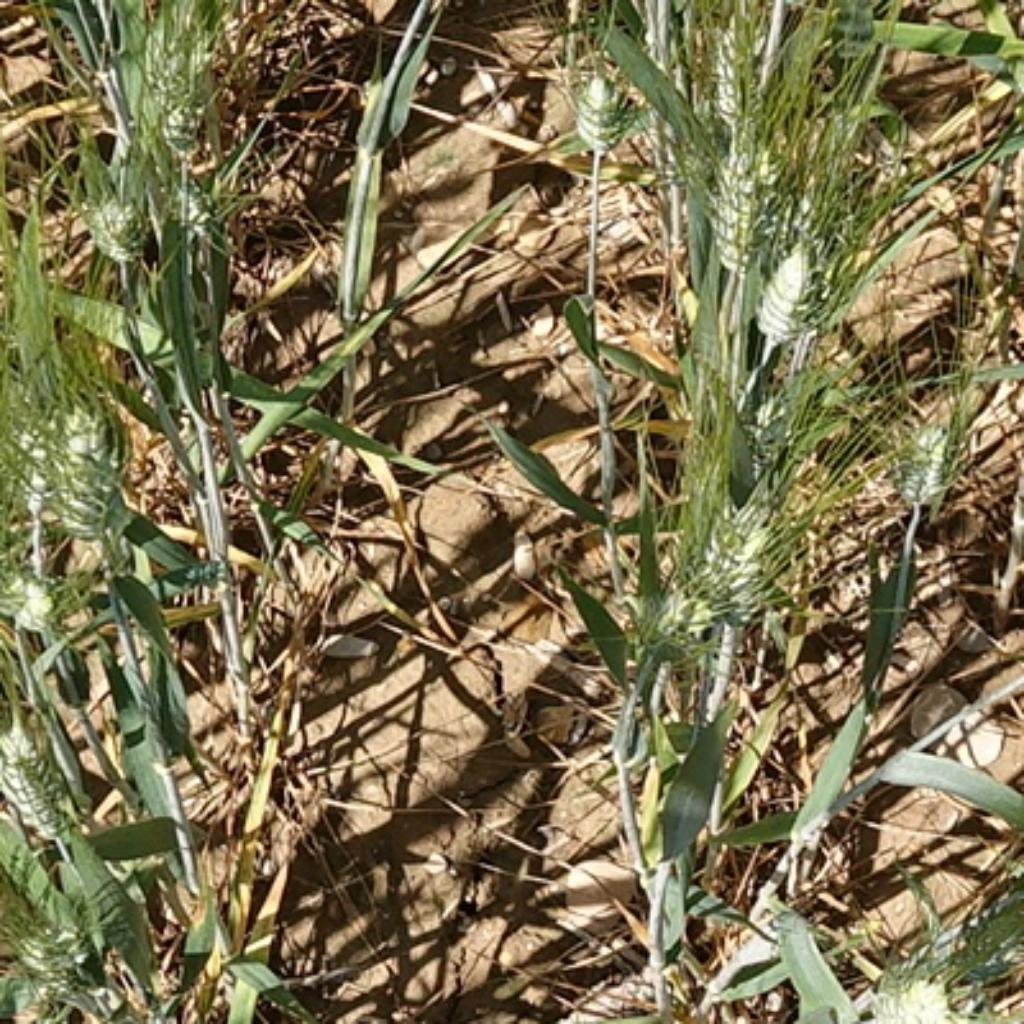0-0: (38, 368, 153, 542), (701, 125, 791, 286), (685, 520, 776, 664), (2, 721, 79, 857), (2, 378, 71, 524), (545, 43, 640, 148), (747, 243, 829, 355), (7, 898, 99, 993), (74, 163, 158, 261), (645, 539, 722, 644), (884, 411, 957, 511), (709, 2, 762, 138), (2, 560, 79, 645), (161, 43, 216, 152), (878, 965, 961, 1023), (170, 178, 218, 240)
